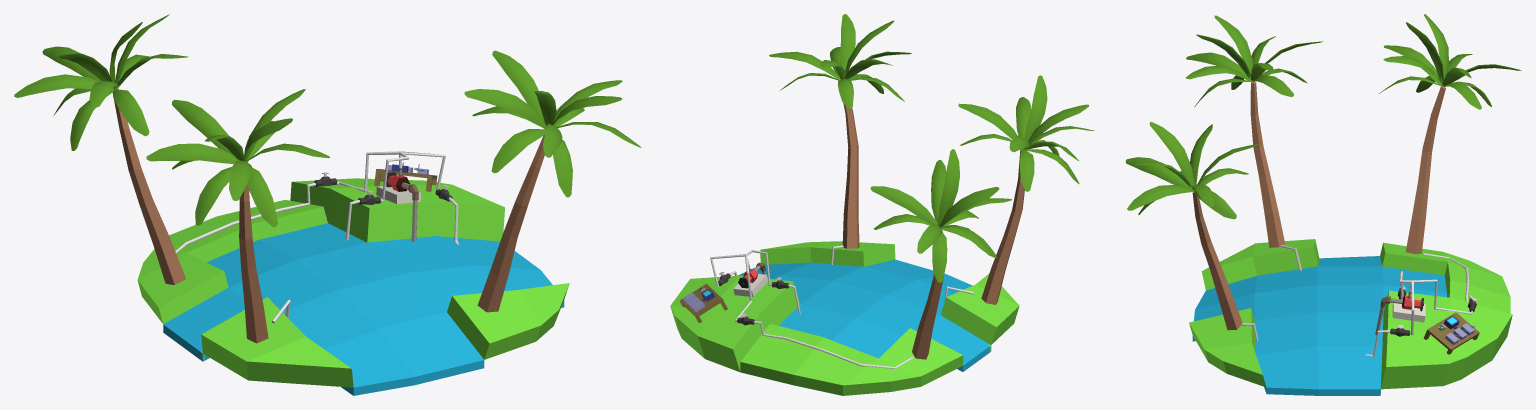
File: irrigation_system.glb
3 views of the same model, side by side, from view 1: azimuth 30°, elevation 25°; view 2: azimuth 150°, elevation 25°; view 3: azimuth 270°, elevation 25° (orthographic). The views are drawn at different scales.
Visible parts, largest first — view 1: IrrigationLand, Leaf, Leaf.002, Leaf.001, CocunutTree 2, CocunutTree 3, CocunutTree 1, WellMotor, IrrigationPipe3; view 2: IrrigationLand, Leaf.001, Leaf, Leaf.002, CocunutTree 3, CocunutTree 1, CocunutTree 2, WellMotor, Board, IrrigationPipe3, IrrigationPipe2; view 3: IrrigationLand, Leaf.002, Leaf, Leaf.001, CocunutTree 2, CocunutTree 1, CocunutTree 3, WellMotor, Board, IrrigationPipe3.
Boxes of the visible parts, x1=… form: IrrigationLand: x1=137, y1=178, x2=569, y2=395; Leaf: x1=146, y1=89, x2=330, y2=227; Leaf.002: x1=464, y1=50, x2=641, y2=197; Leaf.001: x1=14, y1=14, x2=188, y2=150; CocunutTree 2: x1=112, y1=88, x2=185, y2=284; CocunutTree 3: x1=477, y1=135, x2=544, y2=312; CocunutTree 1: x1=239, y1=185, x2=268, y2=343; WellMotor: x1=376, y1=168, x2=420, y2=241; IrrigationPipe3: x1=337, y1=151, x2=445, y2=202; IrrigationLand: x1=670, y1=241, x2=1019, y2=395; Leaf.001: x1=870, y1=149, x2=1011, y2=282; Leaf: x1=958, y1=75, x2=1094, y2=191; Leaf.002: x1=769, y1=14, x2=911, y2=108; CocunutTree 3: x1=842, y1=103, x2=859, y2=248; CocunutTree 1: x1=981, y1=149, x2=1024, y2=304; CocunutTree 2: x1=912, y1=274, x2=943, y2=359; WellMotor: x1=733, y1=262, x2=768, y2=296; Board: x1=679, y1=283, x2=727, y2=322; IrrigationPipe3: x1=710, y1=249, x2=771, y2=322; IrrigationPipe2: x1=754, y1=321, x2=913, y2=368; IrrigationLand: x1=1189, y1=239, x2=1512, y2=395; Leaf.002: x1=1125, y1=122, x2=1260, y2=219; Leaf: x1=1185, y1=15, x2=1322, y2=107; Leaf.001: x1=1379, y1=14, x2=1521, y2=109; CocunutTree 2: x1=1406, y1=85, x2=1445, y2=254; CocunutTree 1: x1=1250, y1=81, x2=1285, y2=247; CocunutTree 3: x1=1192, y1=192, x2=1242, y2=330; WellMotor: x1=1375, y1=292, x2=1425, y2=335; Board: x1=1423, y1=312, x2=1479, y2=354; IrrigationPipe3: x1=1399, y1=271, x2=1472, y2=335.
Size of the model in its own units: 9.22 by 5.99 by 8.89.
5 materials, 5 textured.
